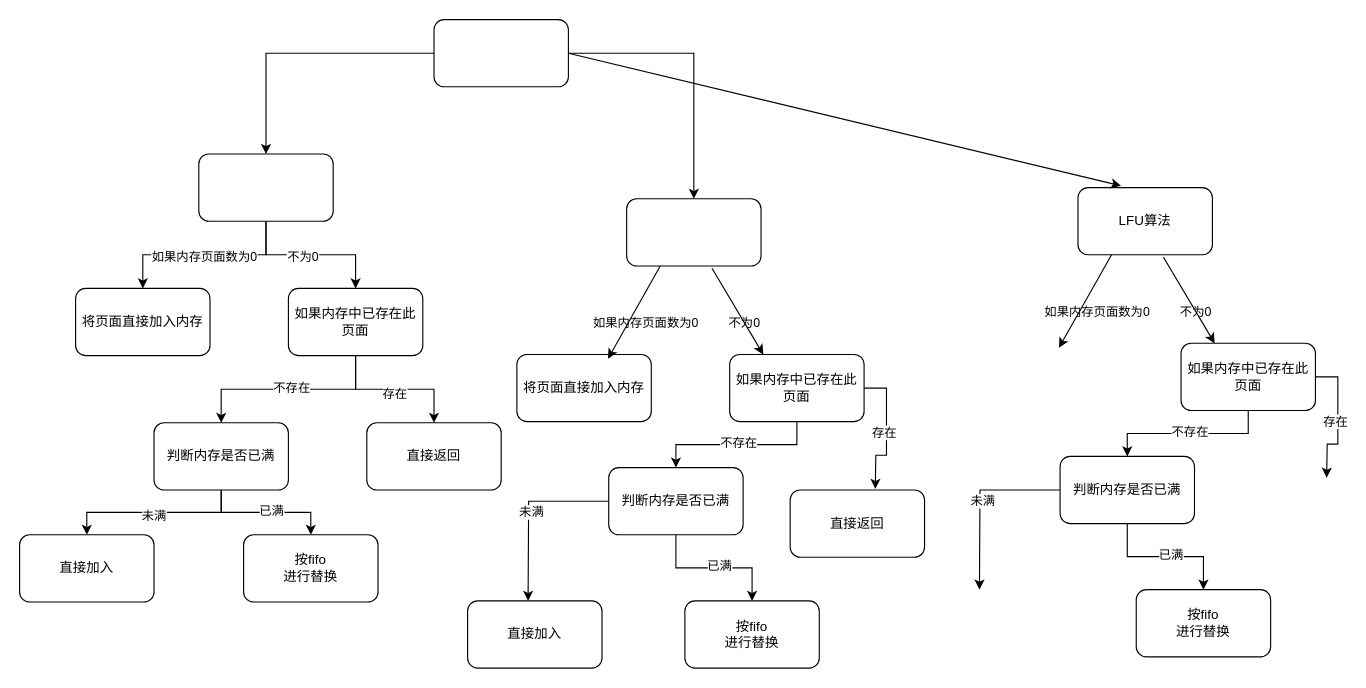
This 1366x688 diagram has some shape labels left out. The centre of each missing label's shape, as x and y in pixels:
"fifo算法" goes at [265,187].
"LRU算法" goes at [693,232].
"虚拟存贮器管理" goes at [500,52].
